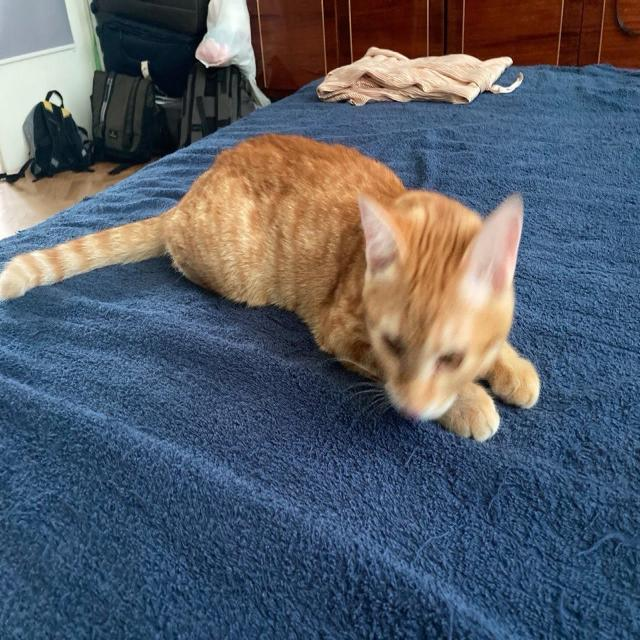red_cat: (188, 142, 546, 428)
